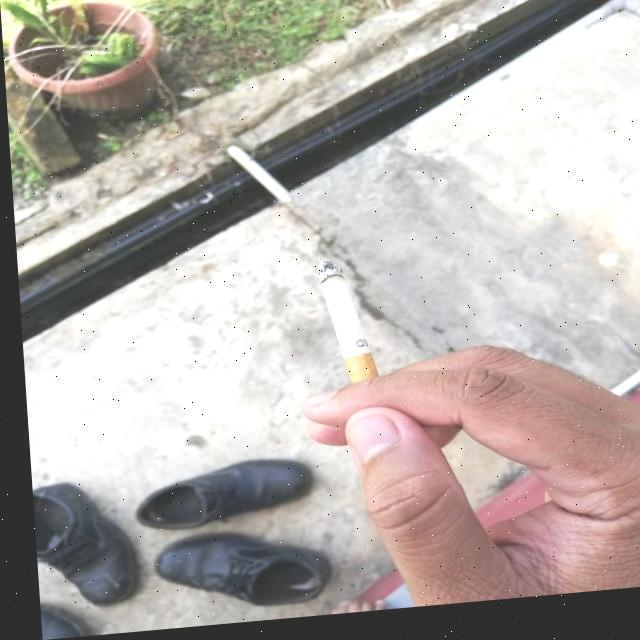cigarette: (311, 262, 372, 388)
